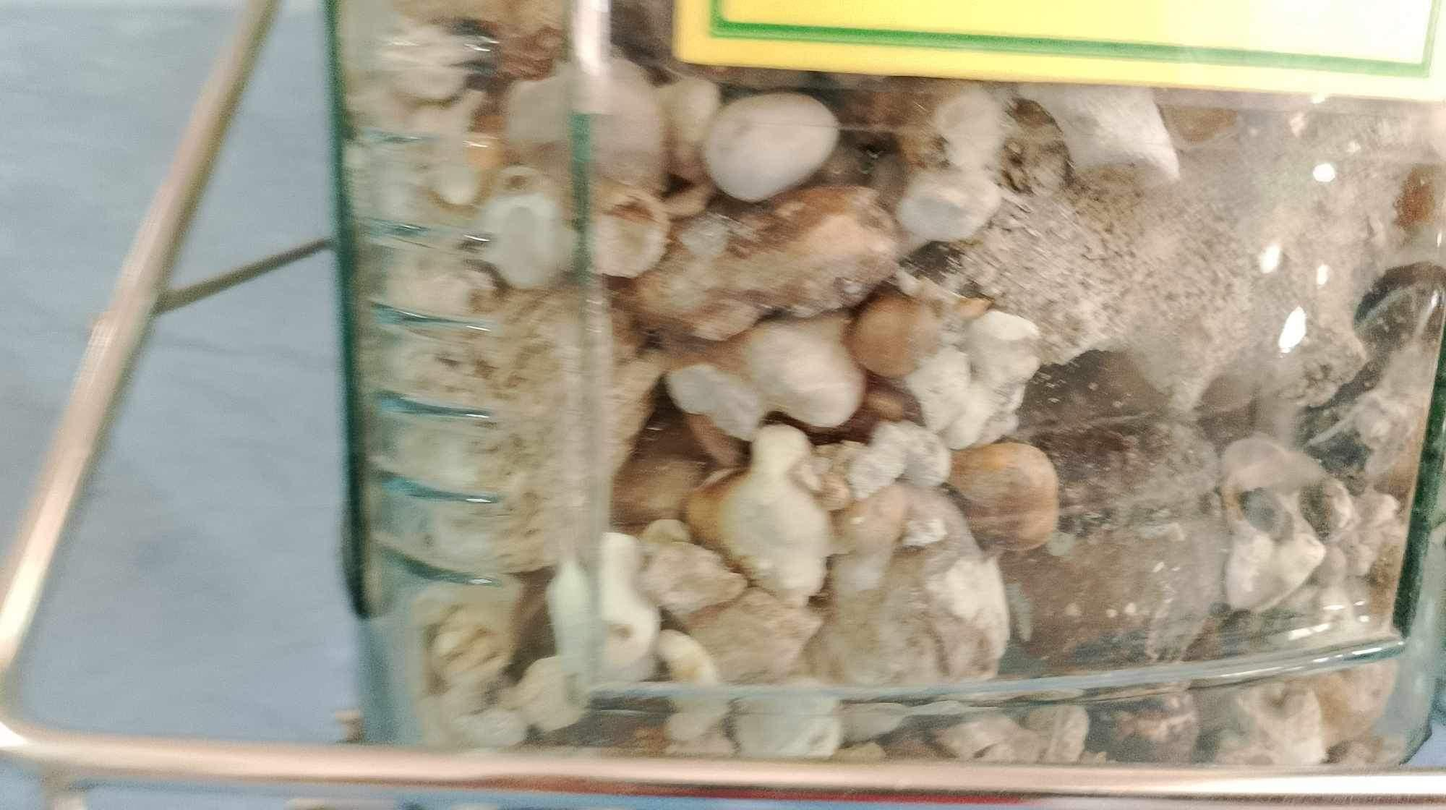General: (337, 11, 1438, 767)
